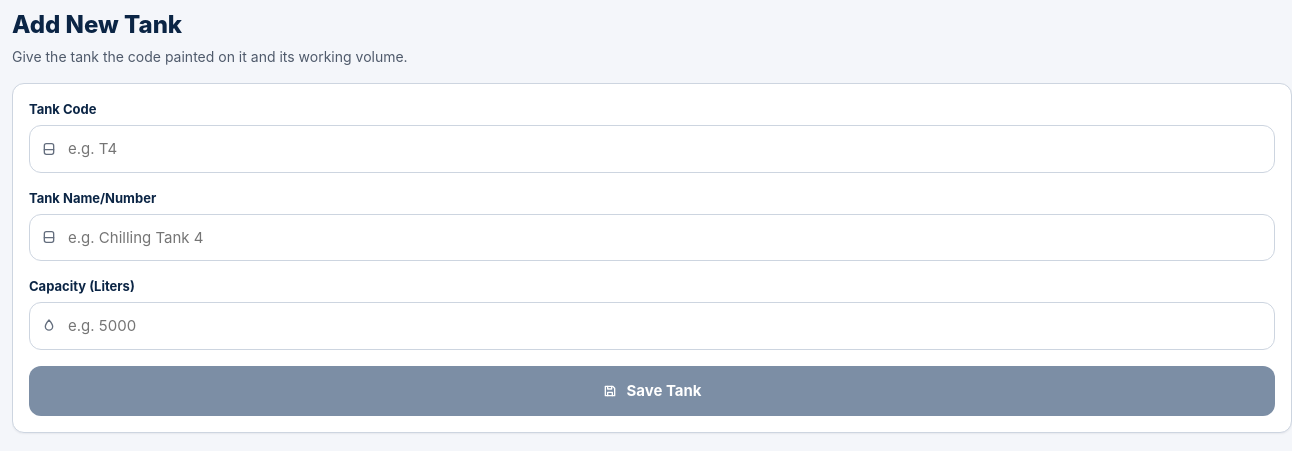
it: adding a tank › will not save until the tank is described
Expected: the button "Save Tank" is disabled, left=29, top=366, right=1275, bottom=416
Type "T4" into the field labelled "Tank Code" at (652, 149), box left=29, top=125, right=1275, bottom=173
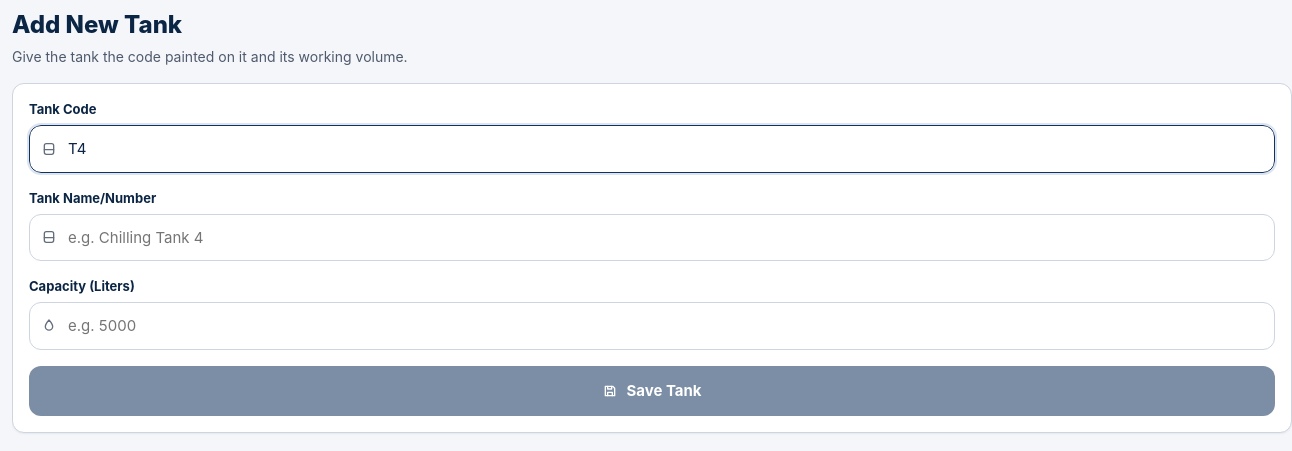
Type "Chilling Tank 4" into the field labelled "Tank Name/Number" at (652, 237), box left=29, top=214, right=1275, bottom=261
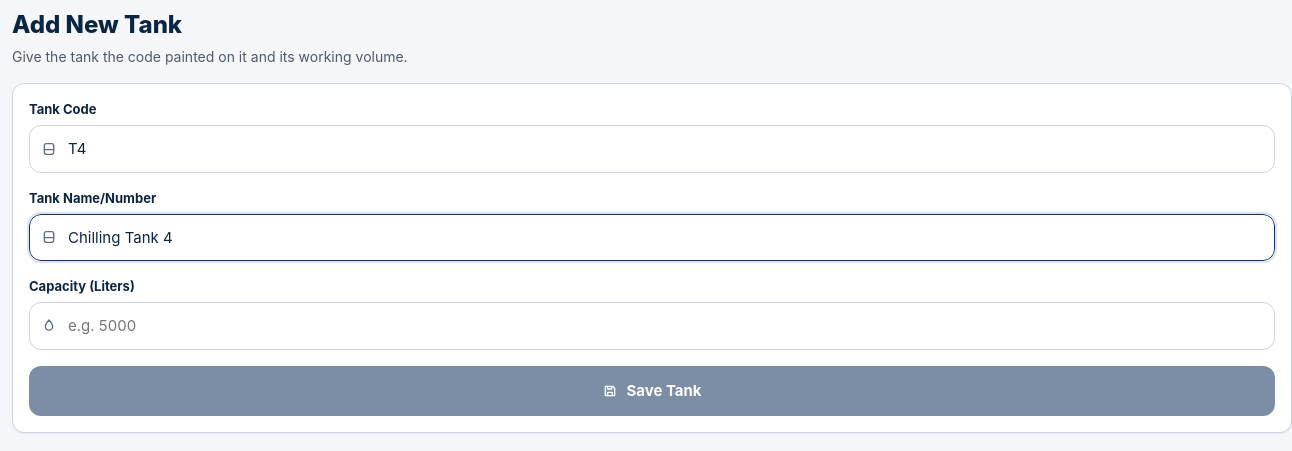
Type "0" into the field labelled "Capacity (Liters)" at (652, 326), box left=29, top=302, right=1275, bottom=350
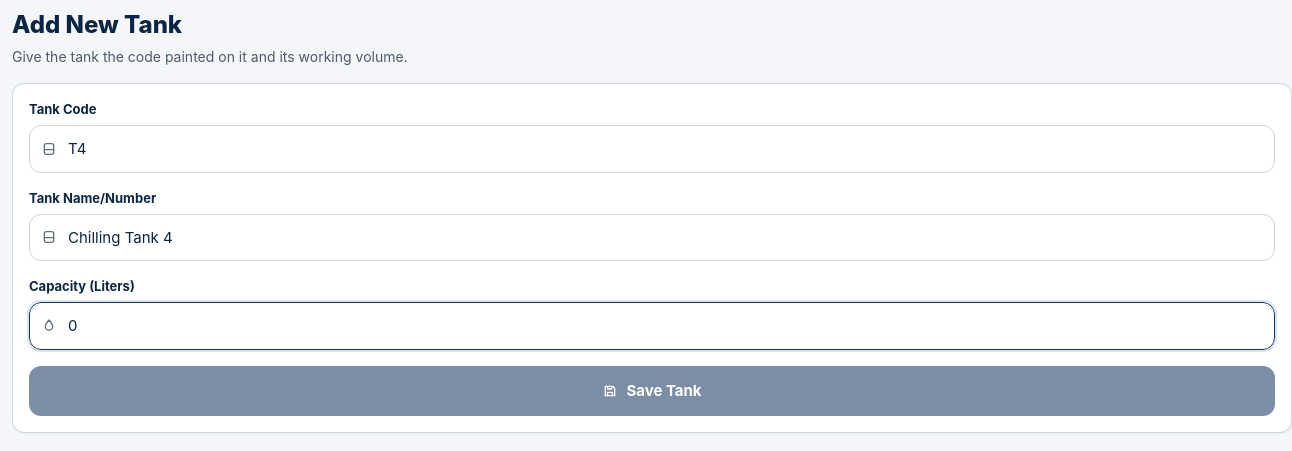
Expected: the button "Save Tank" is disabled, left=29, top=366, right=1275, bottom=416
Replace the text in the field labelled "Capacity (Liters)" with "4000" at (652, 326), box left=29, top=302, right=1275, bottom=350
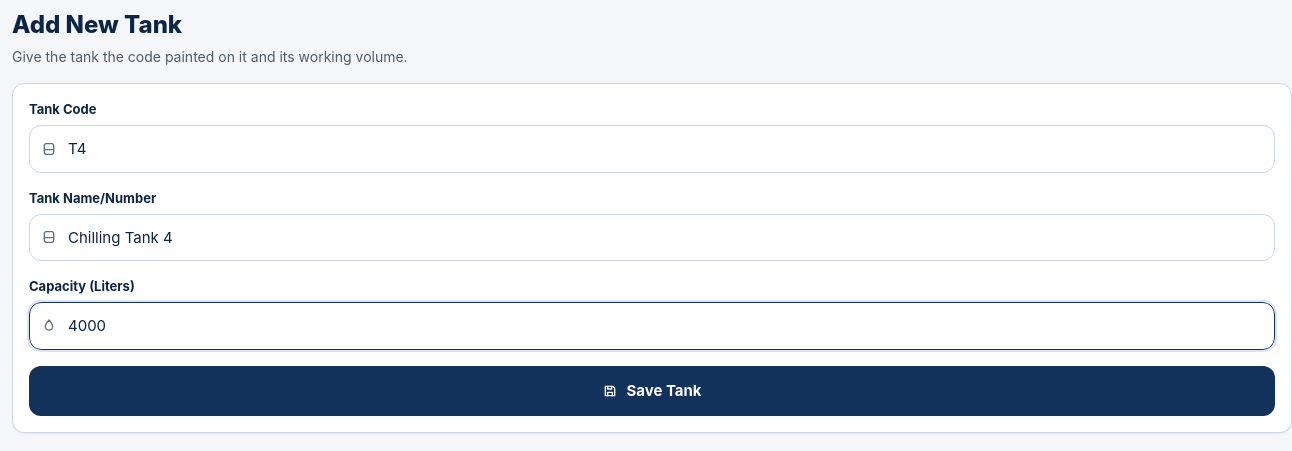
Expected: the button "Save Tank" is enabled, left=29, top=366, right=1275, bottom=416
